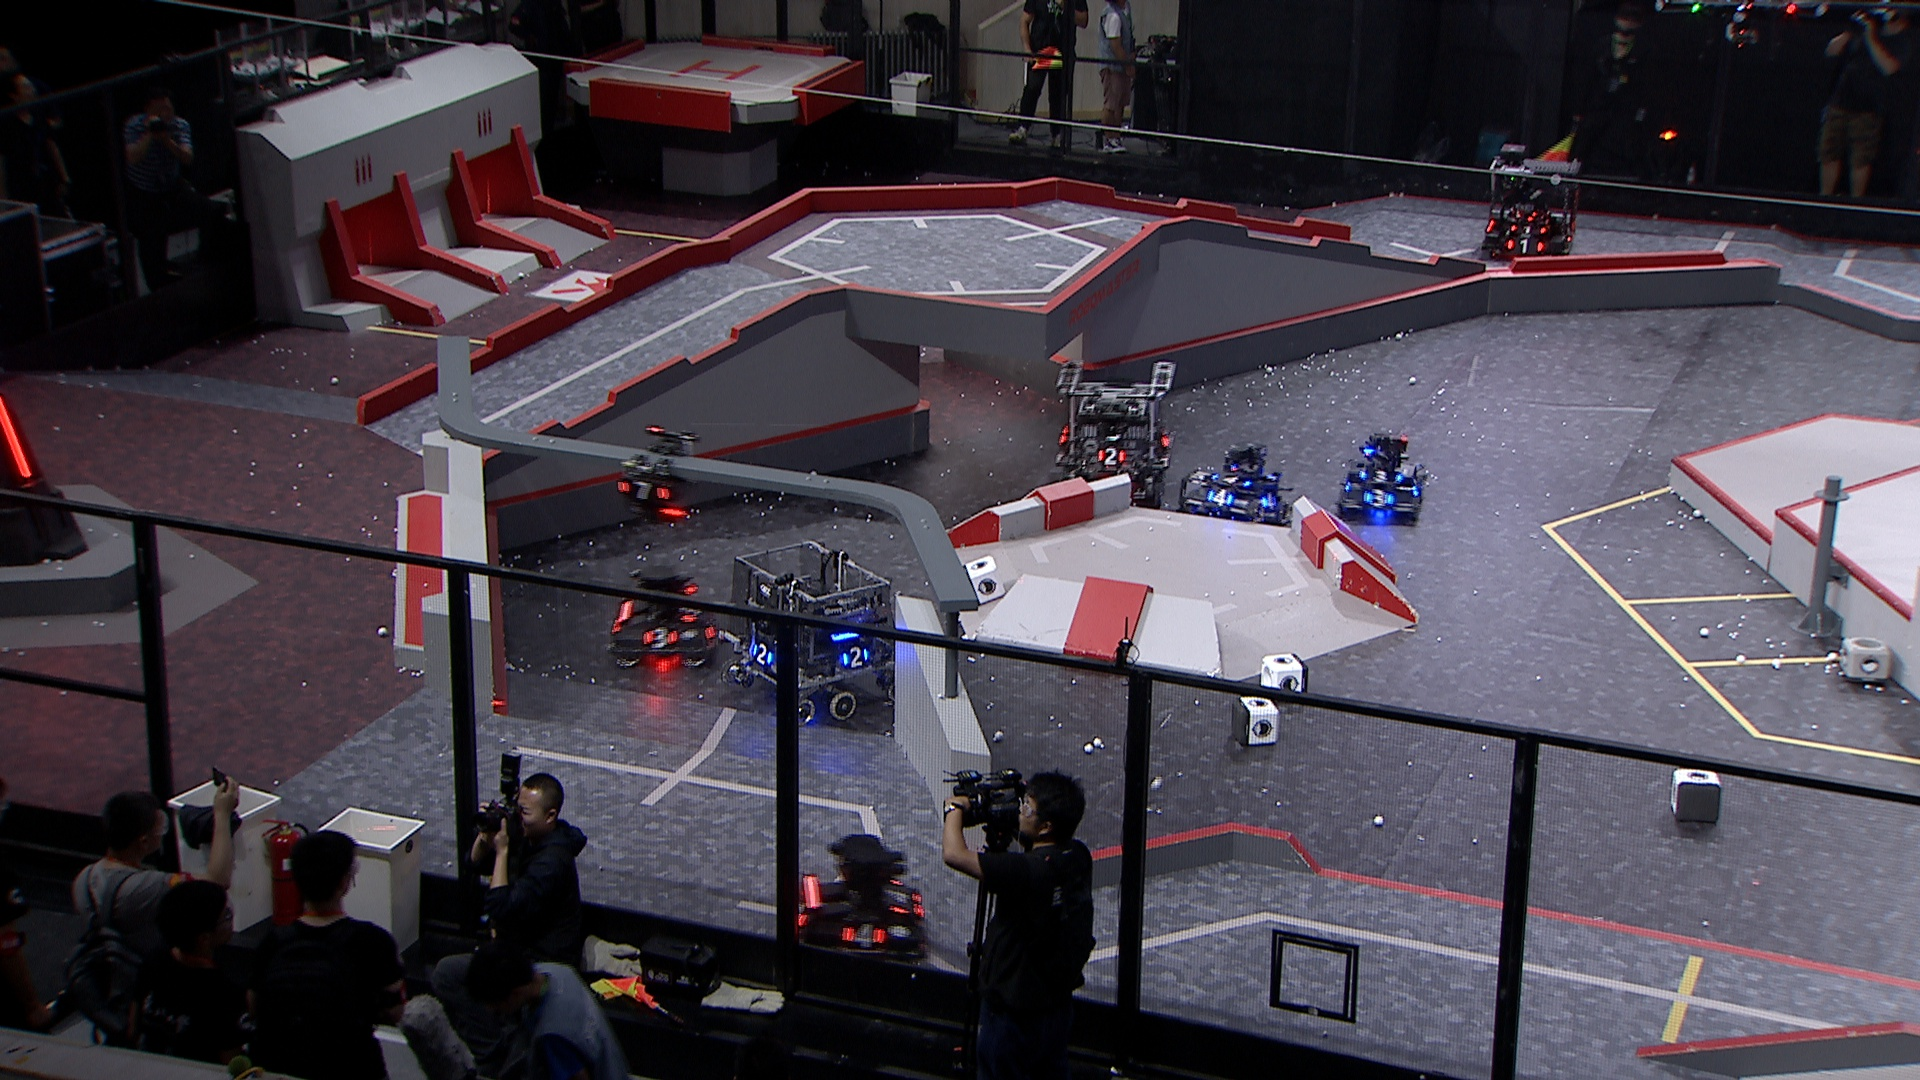armor: (615, 479, 669, 504), (840, 920, 885, 949), (885, 876, 911, 915), (644, 626, 678, 651), (1505, 237, 1545, 257), (840, 646, 872, 670), (1361, 469, 1403, 487), (1362, 488, 1395, 509), (750, 642, 775, 669), (1211, 472, 1251, 488), (1095, 447, 1129, 465), (678, 603, 704, 624), (1509, 223, 1547, 237), (1207, 489, 1236, 508), (1259, 491, 1282, 509), (1564, 224, 1576, 244)
car: (721, 541, 909, 727), (1050, 357, 1176, 508), (793, 833, 930, 968), (608, 562, 721, 670), (1485, 144, 1582, 258), (1178, 440, 1292, 526), (1338, 431, 1429, 520)
watcher: (615, 425, 699, 524)
